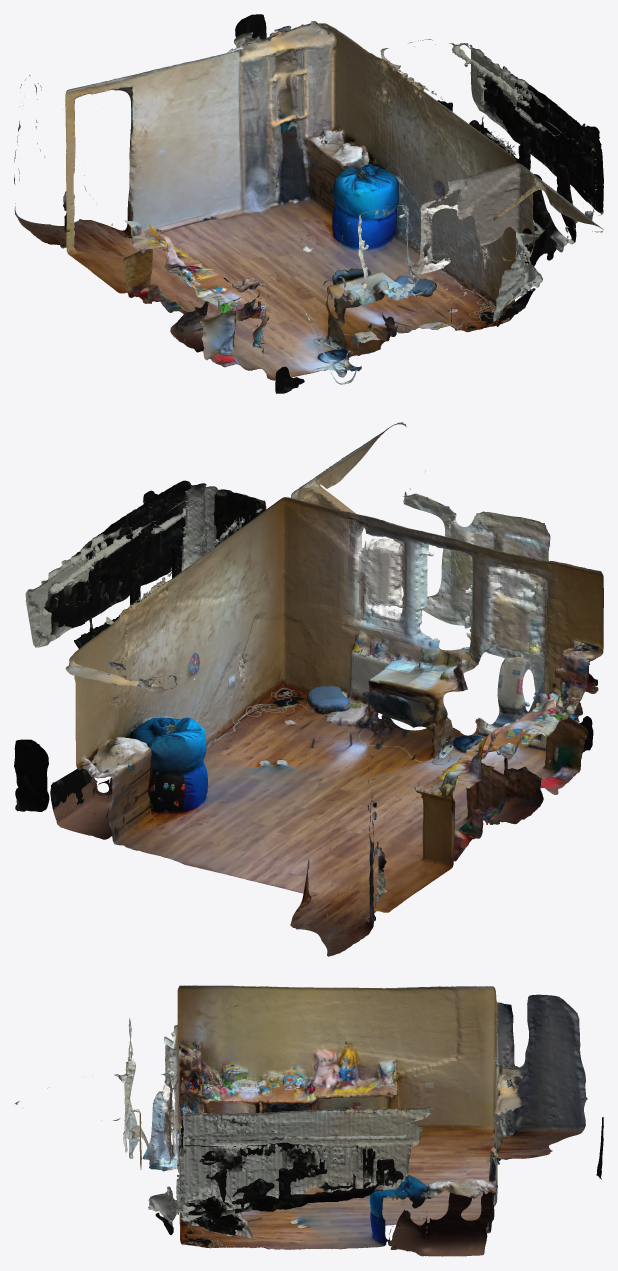
The model's file is polycam1.glb.
The picture shows the model from 3 angles, top to bottom: view 1: azimuth 30°, elevation 25°; view 2: azimuth 150°, elevation 25°; view 3: azimuth 270°, elevation 25°; orthographic projection. The views are drawn at different scales.
Bounding box in the file's own units: 5.4 × 2.34 × 8.28.
Materials: 2 (2 with a texture image).
